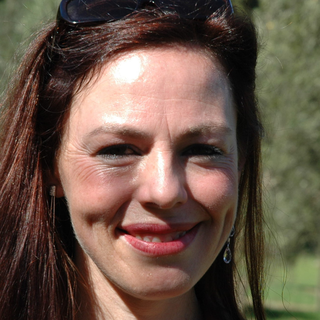eye: (178, 140, 227, 165), (93, 140, 144, 164)
